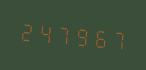four: (35, 16, 52, 48)
nine: (72, 19, 89, 51)
seven: (54, 18, 71, 49), (108, 23, 125, 54)
six: (90, 21, 107, 52)
two: (17, 15, 34, 46)
